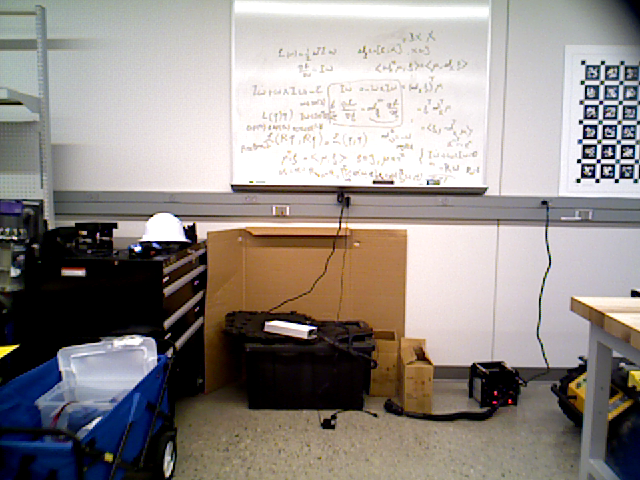painting4: (565, 47, 640, 193)
